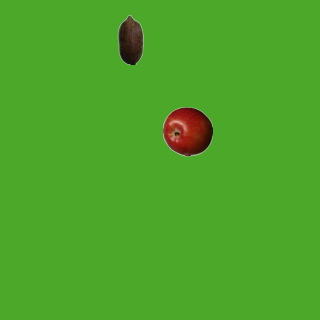Apple Braeburn: (162, 106, 212, 156)
Nut Pecan: (105, 14, 155, 64)
